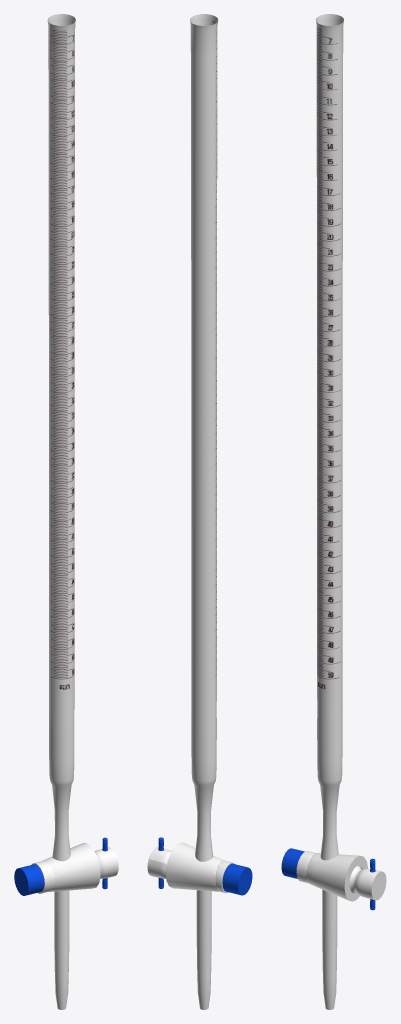
Rendered from burette.fbx.
3 renders of one model, left to right at view 1: azimuth 30°, elevation 25°; view 2: azimuth 150°, elevation 25°; view 3: azimuth 330°, elevation 25°, orthographic.
Parts seen in each view (by area): view 1: burette_cylinder_1, stop cock_1, burette_cylinder_2, stop cock_3; view 2: burette_cylinder_1, stop cock_1, burette_cylinder_2, stop cock_3; view 3: burette_cylinder_1, stop cock_1, burette_cylinder_2, stop cock_3.
Boxes of the visible parts, x1=… form: burette_cylinder_1: x1=47, y1=14, x2=75, y2=861; stop cock_1: x1=14, y1=842, x2=100, y2=895; burette_cylinder_2: x1=54, y1=890, x2=69, y2=1009; stop cock_3: x1=94, y1=837, x2=118, y2=889; burette_cylinder_1: x1=190, y1=14, x2=218, y2=861; stop cock_1: x1=166, y1=842, x2=252, y2=895; burette_cylinder_2: x1=196, y1=890, x2=211, y2=1009; stop cock_3: x1=147, y1=837, x2=171, y2=888; burette_cylinder_1: x1=315, y1=14, x2=343, y2=860; stop cock_1: x1=281, y1=848, x2=367, y2=901; burette_cylinder_2: x1=322, y1=889, x2=337, y2=1009; stop cock_3: x1=349, y1=858, x2=386, y2=910.
Size of the model in its own units: 8.52 by 89.21 by 3.87.
